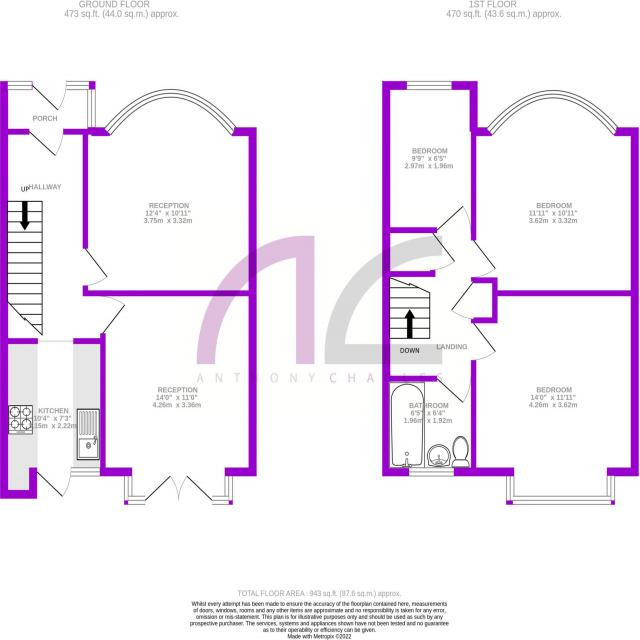DOOR: (82, 246, 110, 287), (35, 467, 72, 498), (27, 128, 65, 158), (435, 203, 472, 233), (471, 322, 498, 362), (471, 239, 498, 279), (100, 295, 127, 335), (436, 375, 472, 404)
ROOM: (470, 290, 640, 506), (82, 88, 257, 297), (471, 89, 639, 297), (100, 290, 257, 506), (0, 338, 106, 499), (382, 80, 478, 233)
WINDOW: (102, 88, 240, 138), (484, 89, 621, 137), (505, 475, 616, 506), (212, 475, 234, 506), (123, 476, 146, 505), (408, 467, 455, 477), (406, 80, 452, 90), (70, 466, 101, 477)
